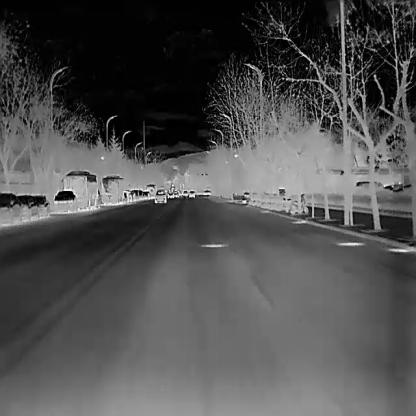bus: (58, 169, 97, 214), (100, 174, 124, 206), (145, 183, 157, 197)
car: (0, 191, 24, 223), (53, 189, 79, 212), (18, 194, 36, 224), (35, 194, 49, 219), (154, 188, 166, 204), (188, 190, 194, 198)
